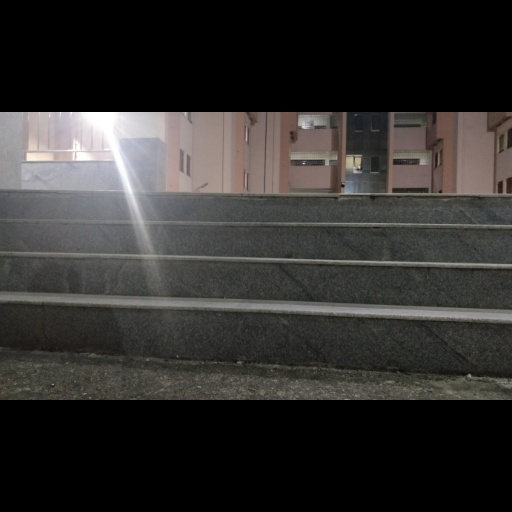Stairs: (0, 191, 512, 376)
